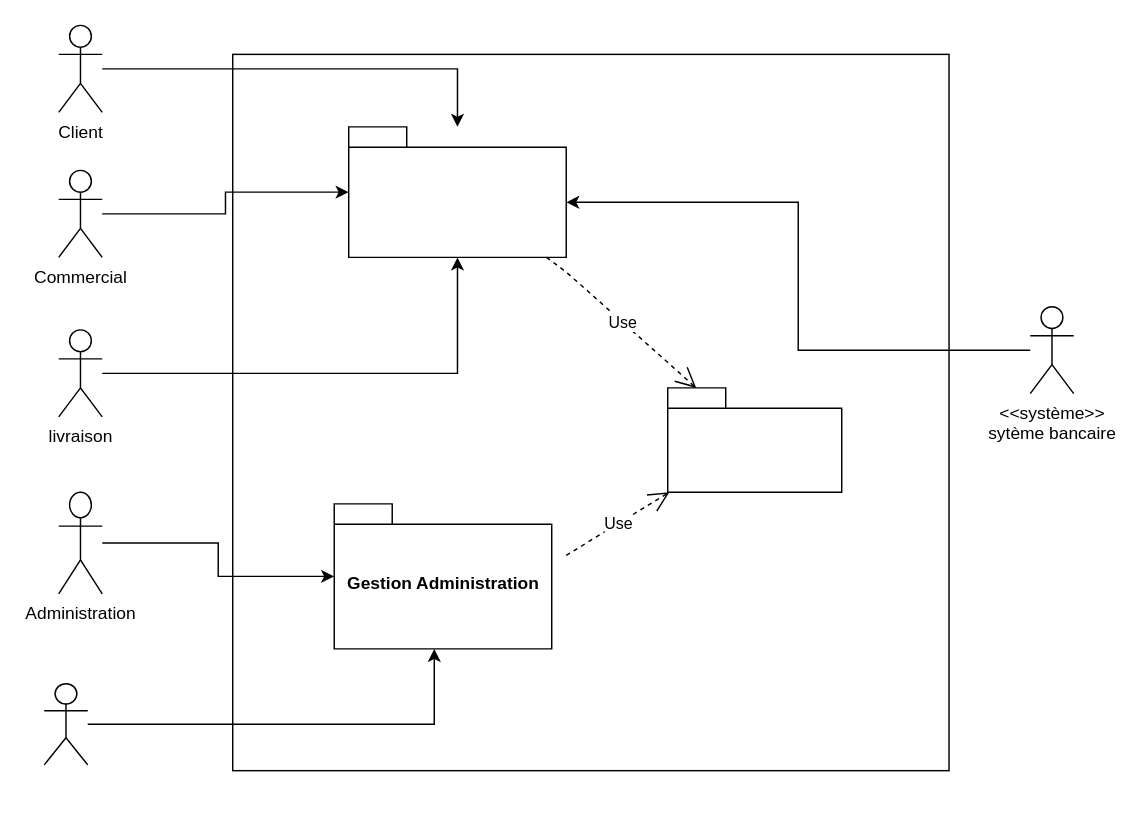
This 1140x821 diagram has some shape labels left out. Each missing label, with the centre of its shape:
"Authenfication" goes at point 754,439.
"Direction" goes at point 65,723.
"Gestion des Achats" goes at point 456,191.
